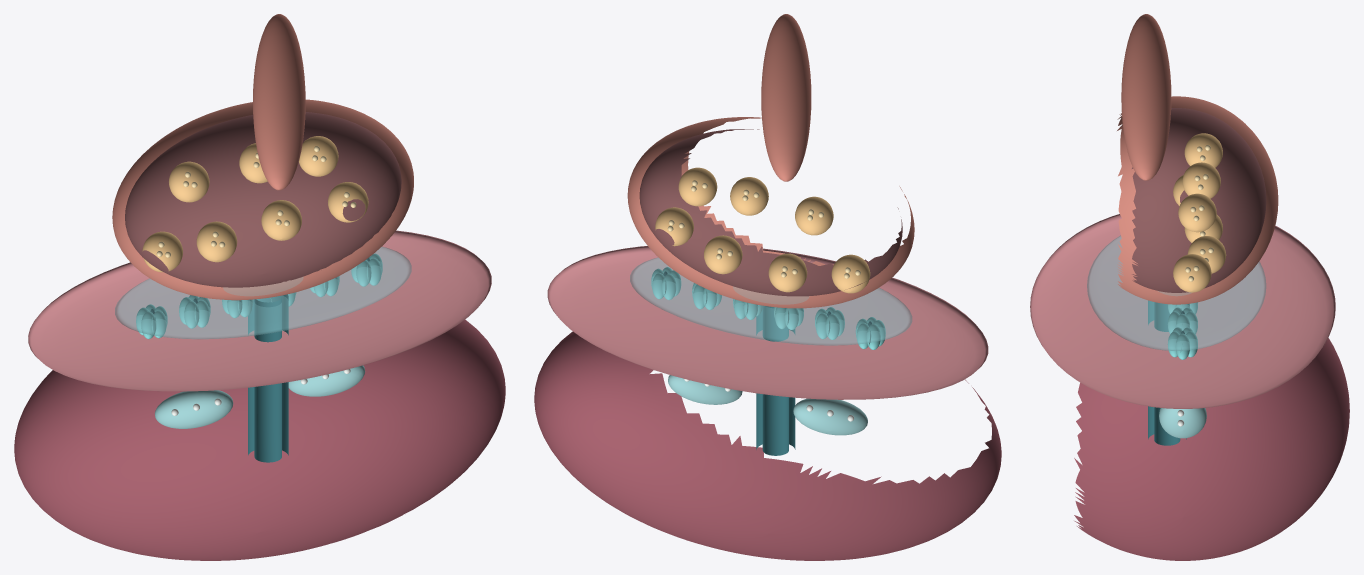
Rendered from neuromuscular_junction.glb.
The picture shows the model from 3 angles, left to right: view 1: azimuth 30°, elevation 25°; view 2: azimuth 150°, elevation 25°; view 3: azimuth 270°, elevation 25°; orthographic projection. The views are drawn at different scales.
Parts seen in each view (by area): view 1: MuscleFiber, Sarcolemma, TerminalInterior, SynapticCleft, Terminal, Axon, TTubule, SR_Cisterna_L, SR_Cisterna_R, Vesicle_02, Vesicle_03, Vesicle_05 (+7 smaller); view 2: MuscleFiber, Sarcolemma, SynapticCleft, TerminalInterior, Axon, Terminal, TTubule, SR_Cisterna_L, SR_Cisterna_R, Vesicle_07, Vesicle_02, Vesicle_01 (+8 smaller); view 3: MuscleFiber, Sarcolemma, TerminalInterior, SynapticCleft, Axon, Terminal, TTubule, SR_Cisterna_R, Vesicle_04, Vesicle_07, Vesicle_06, Vesicle_05 (+4 smaller).
Boxes of the visible parts, box(x1,y1,x2,y2) form: MuscleFiber: box(14, 319, 505, 560); Sarcolemma: box(28, 230, 491, 391); TerminalInterior: box(125, 112, 401, 287); SynapticCleft: box(115, 246, 411, 339); Terminal: box(112, 99, 413, 300); Axon: box(253, 14, 305, 190); TTubule: box(248, 294, 288, 462); SR_Cisterna_L: box(154, 390, 233, 428); SR_Cisterna_R: box(288, 365, 365, 396); Vesicle_02: box(196, 221, 237, 262); Vesicle_03: box(261, 200, 301, 240); Vesicle_05: box(169, 161, 209, 202); MuscleFiber: box(534, 331, 1001, 560); Sarcolemma: box(547, 246, 988, 399); SynapticCleft: box(630, 257, 912, 345); TerminalInterior: box(639, 129, 902, 296); Axon: box(761, 14, 811, 181); Terminal: box(627, 117, 914, 308); TTubule: box(756, 305, 795, 455); SR_Cisterna_L: box(793, 398, 867, 435); SR_Cisterna_R: box(668, 375, 742, 404); Vesicle_07: box(678, 167, 717, 206); Vesicle_02: box(768, 253, 807, 292); Vesicle_01: box(831, 254, 870, 293); MuscleFiber: box(1074, 338, 1349, 560); Sarcolemma: box(1030, 214, 1335, 408); TerminalInterior: box(1132, 108, 1266, 292); SynapticCleft: box(1087, 235, 1266, 350); Axon: box(1121, 14, 1171, 180); Terminal: box(1117, 96, 1278, 304); TTubule: box(1148, 300, 1186, 445); SR_Cisterna_R: box(1159, 408, 1206, 438); Vesicle_04: box(1173, 254, 1211, 292); Vesicle_07: box(1178, 193, 1216, 232); Vesicle_06: box(1182, 162, 1220, 198); Vesicle_05: box(1184, 133, 1222, 167).
Bounding box in the file's own units: 9.6 × 10.63 × 6.13.
